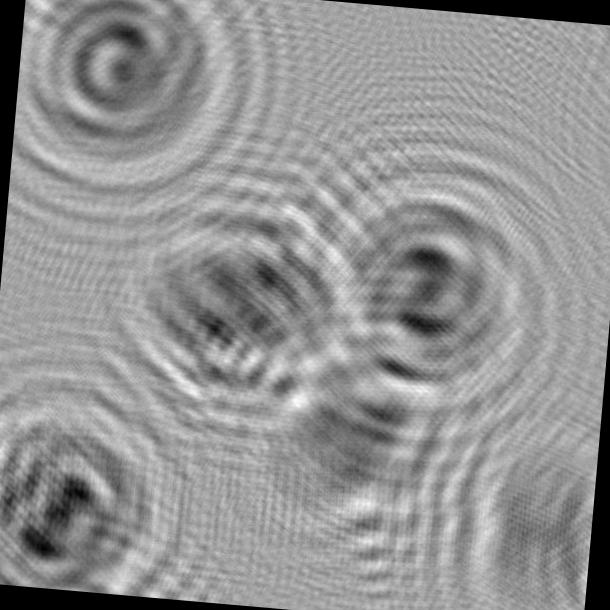B: (0, 374, 207, 601)
G: (9, 0, 240, 203)
I: (440, 403, 601, 610)
N: (85, 144, 363, 450)
S: (300, 144, 562, 424)
Y: (230, 319, 478, 556)
